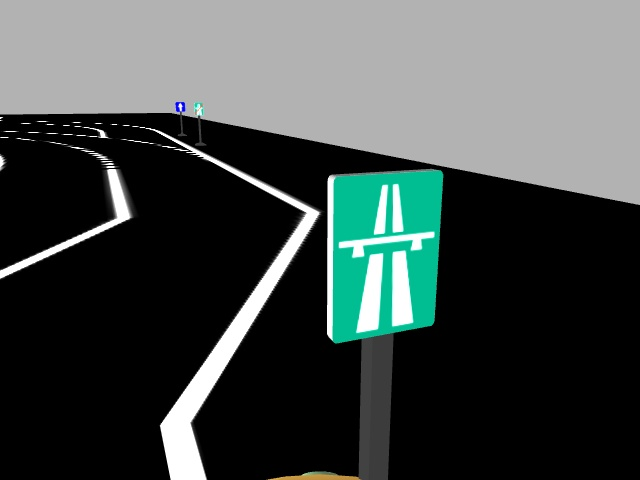HighwayEntrance: (324, 172, 437, 336)
